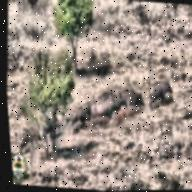boar: (148, 74, 181, 110), (15, 120, 46, 154), (93, 92, 118, 115), (128, 87, 148, 111), (69, 106, 91, 124), (101, 80, 117, 101), (120, 80, 137, 99), (85, 95, 95, 106)
